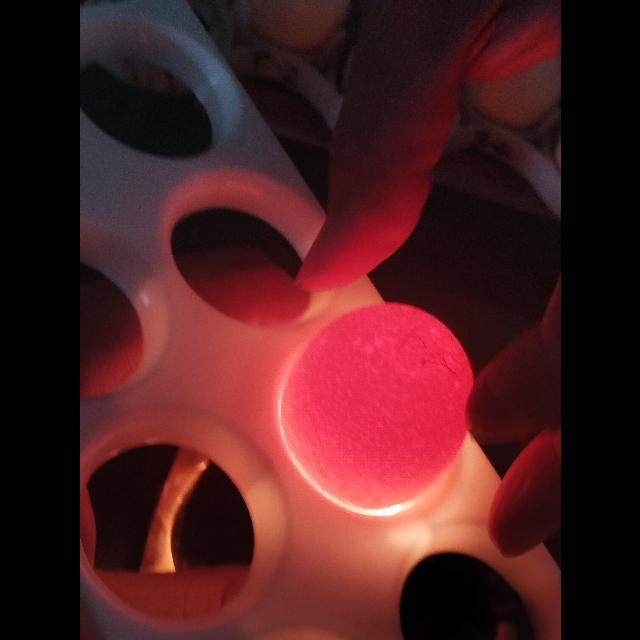Infertile: (276, 300, 477, 514)
